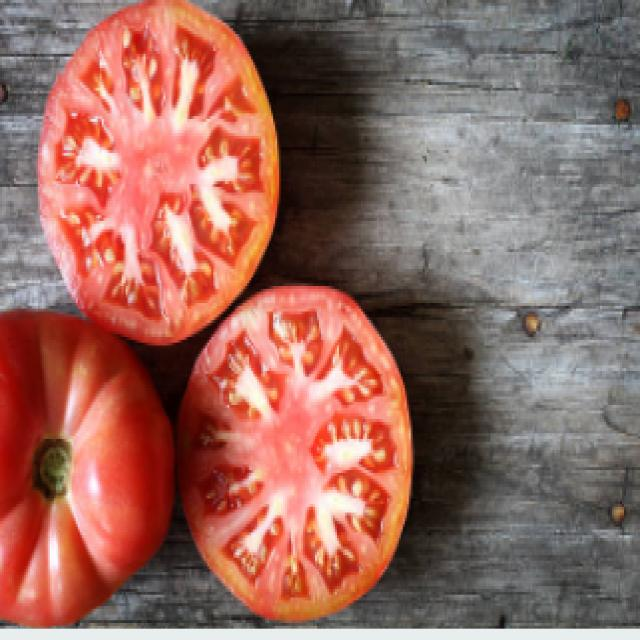Tomato: (158, 273, 409, 616), (38, 11, 271, 333)
